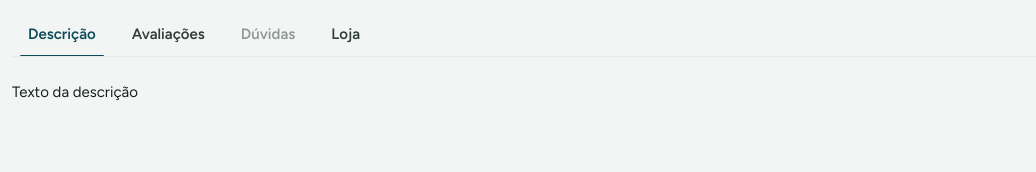
Test: Tabs › troca de aba com clique
Click the tab "Avaliações".
click(168, 34)  # box top-left (116, 12), bottom-right (221, 56)
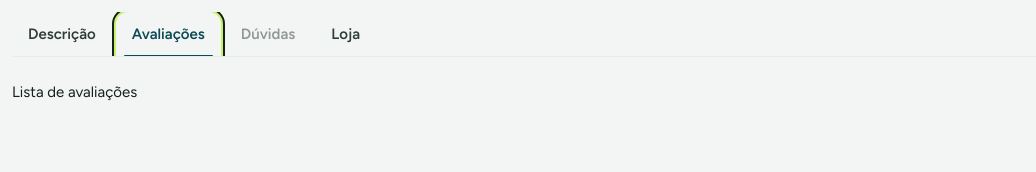
Check: the panel reads "Lista de avaliações", box top-left (12, 83), bottom-right (137, 101)
